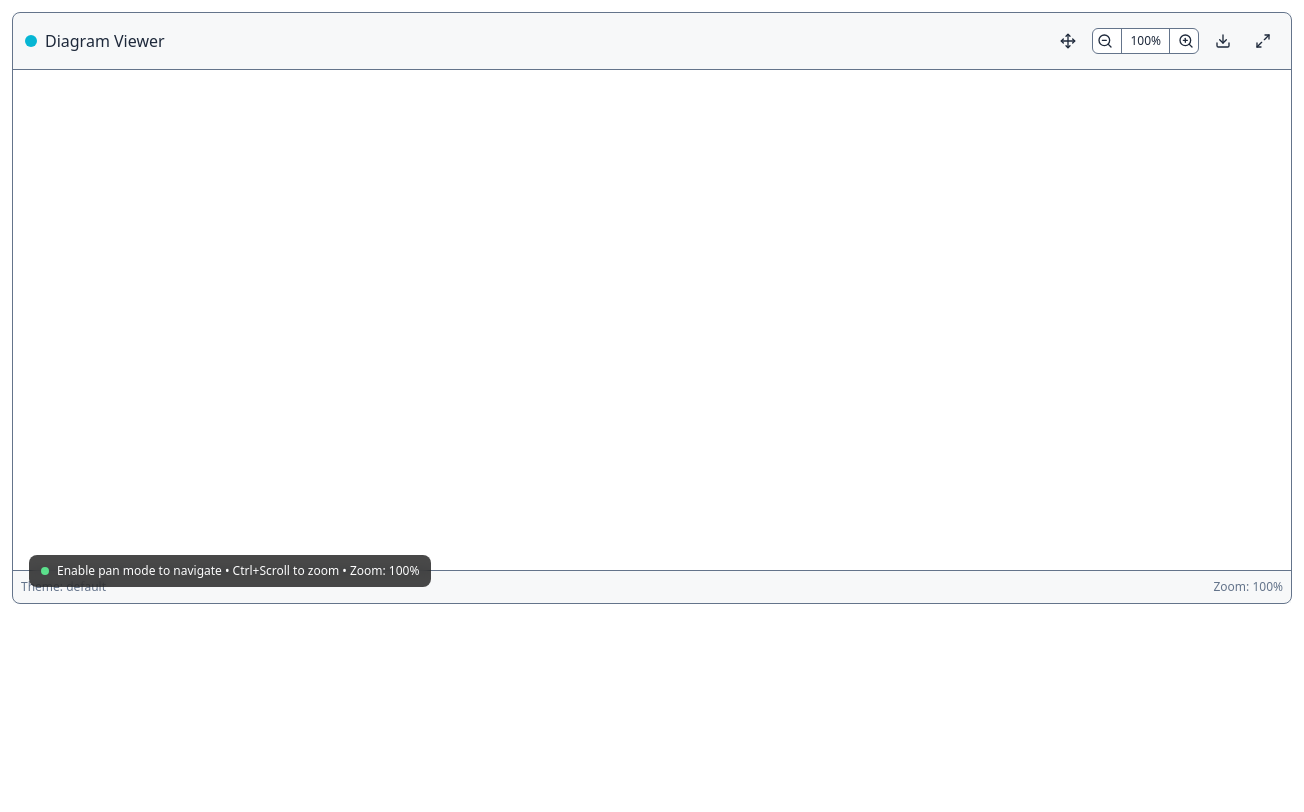
Scenario: DiagramViewer › should handle zoom in
Click the button titled "Zoom In" at (1186, 41), box [1174,29,1198,53]
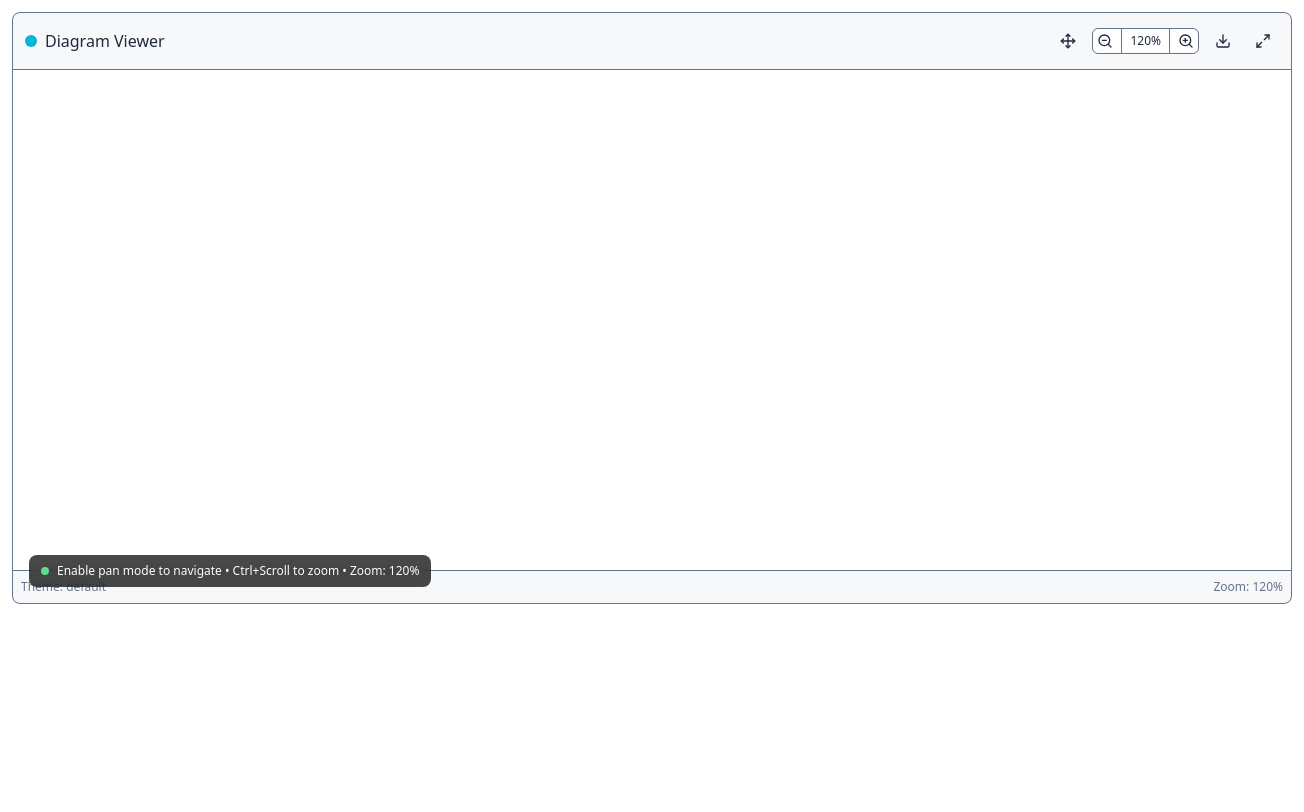
Expected: the button "120%" is shown, [1121,29,1170,53]
